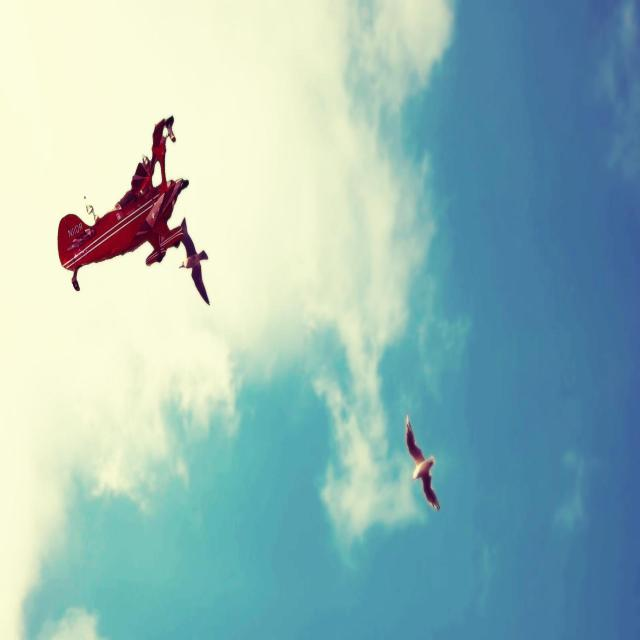airplane: (57, 114, 189, 290)
